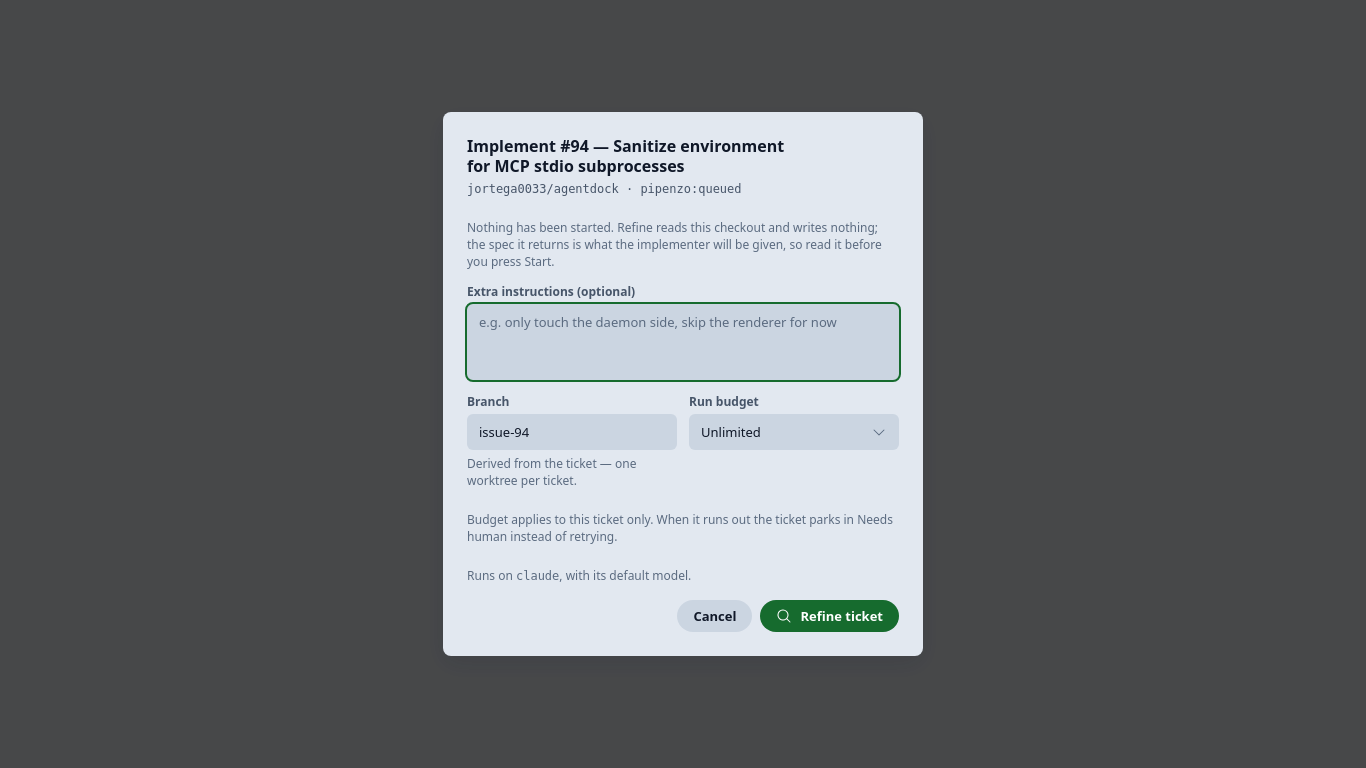
ImplementDialog › surfaces the spec’s open questions as a warning rather than a bullet
Click the button "Refine ticket" at (830, 616), box [760, 600, 899, 632]
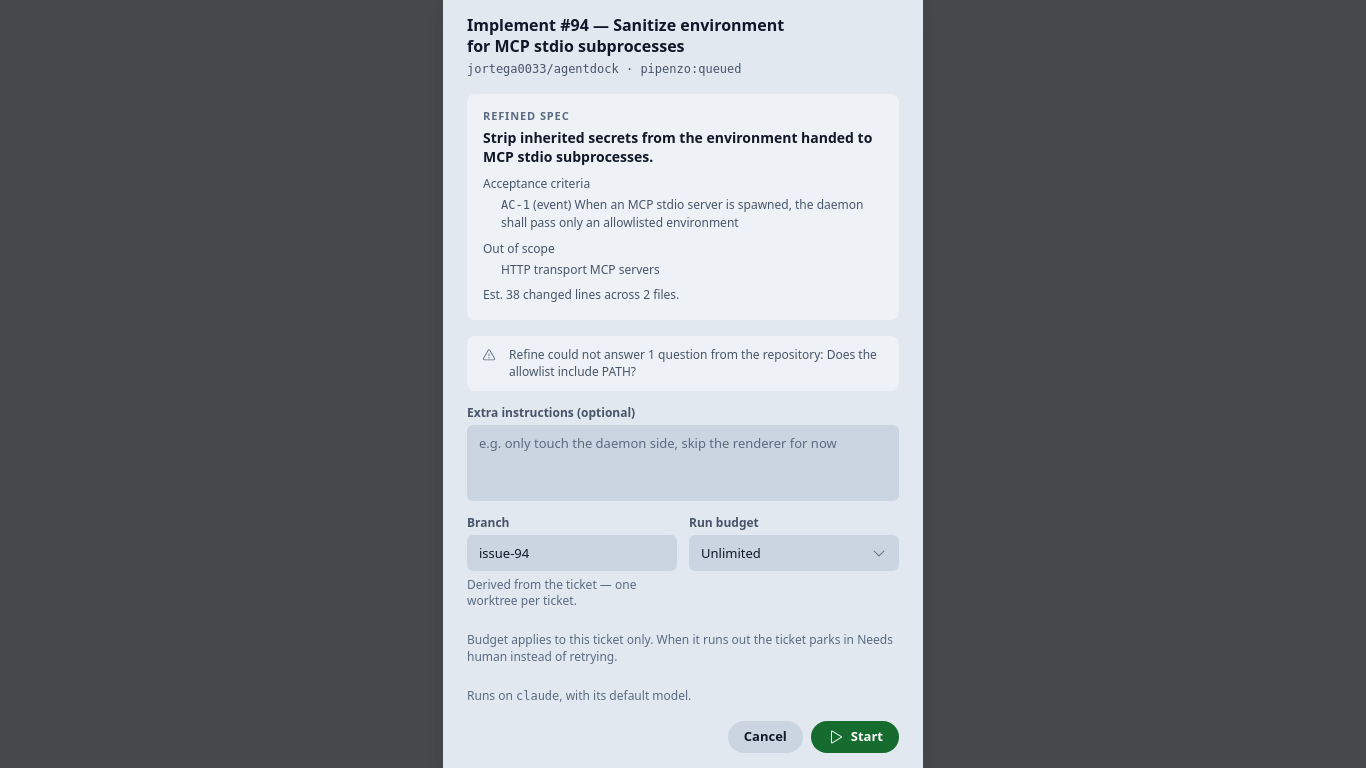
Expected: the button "Start" is shown, [811, 721, 899, 753]
Expected: the text "could not answer 1 question" is shown, [509, 346, 887, 381]
Expected: the text "Does the allowlist include PATH?" is shown, [509, 346, 877, 380]
